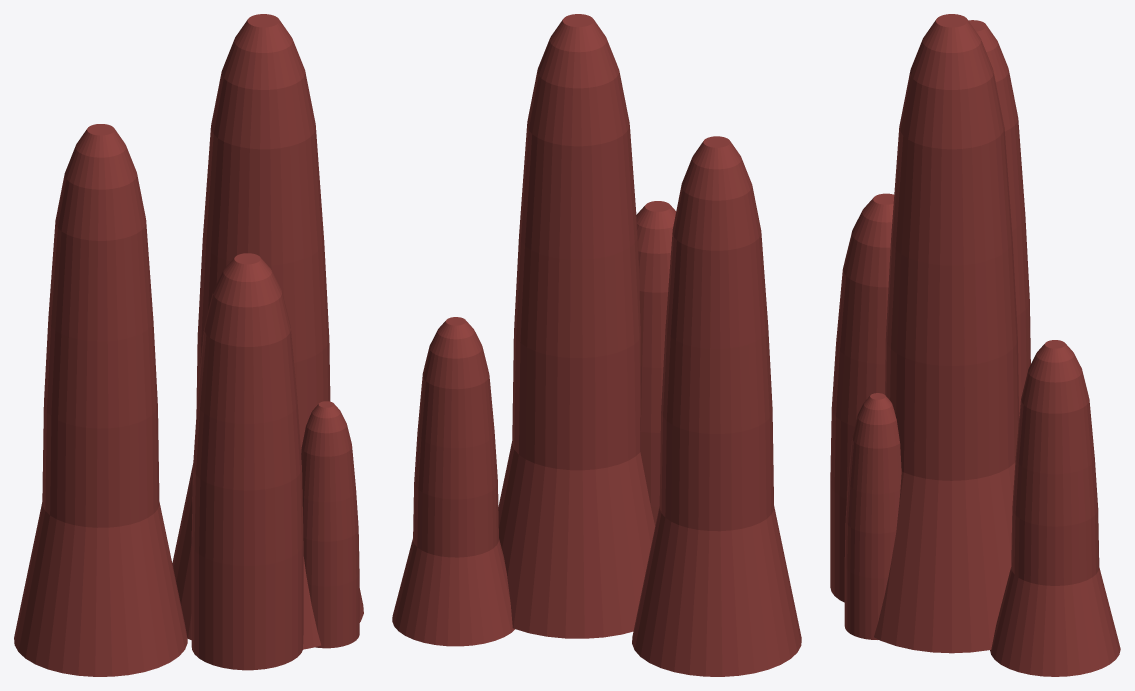
File: SM_EN_Spire_01.fbx
3 renders of one model, left to right at view 1: azimuth 30°, elevation 25°; view 2: azimuth 150°, elevation 25°; view 3: azimuth 270°, elevation 25°, orthographic. The views are drawn at different scales.
Parts seen in each view (by area): view 1: SM_EN_Spire_01; view 2: SM_EN_Spire_01; view 3: SM_EN_Spire_01.
Part boxes in pixels (x1,y1,x2,y2): SM_EN_Spire_01: (14, 14, 363, 676); SM_EN_Spire_01: (392, 14, 801, 676); SM_EN_Spire_01: (830, 14, 1120, 676).
Size of the model in its own units: 316 by 222 by 500.
